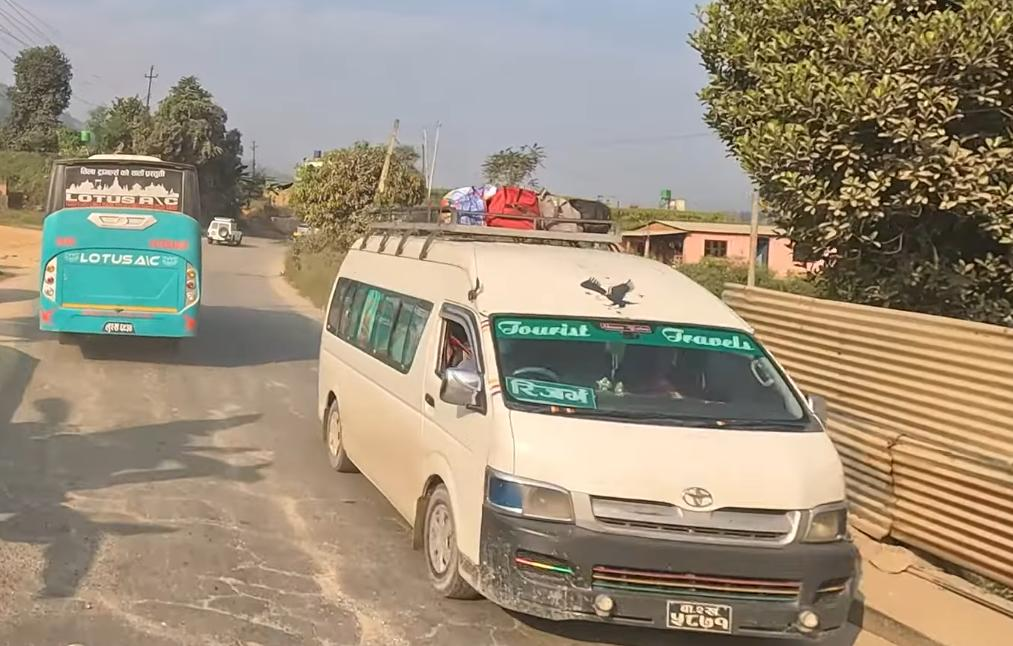bus: (33, 148, 208, 355)
micro_bus: (312, 192, 862, 646)
